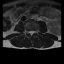CCS_normal: (30, 29, 32, 38)
LFS_normal: (34, 29, 36, 34)
LLS_normal: (32, 29, 34, 35)
RFS_normal: (26, 30, 28, 35)
RLS_normal: (28, 29, 30, 35)
